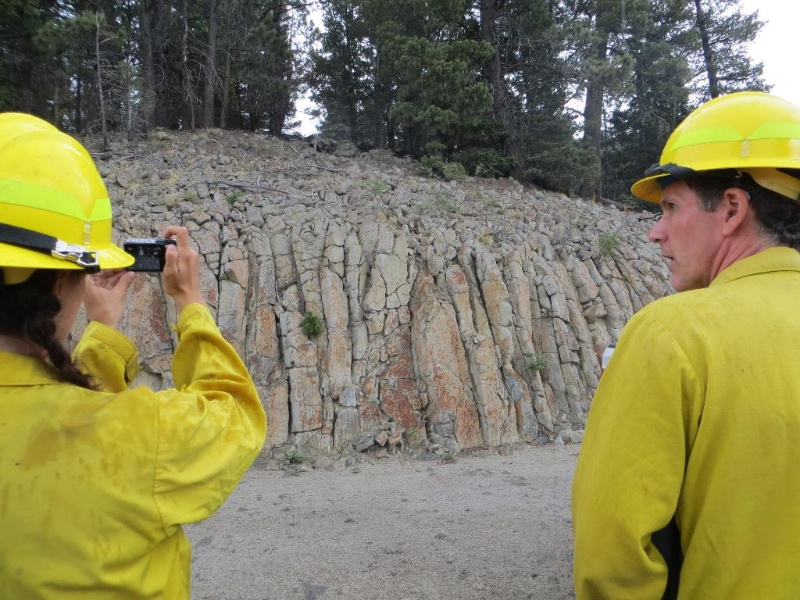Baret: (1, 104, 136, 276), (631, 91, 800, 205)
